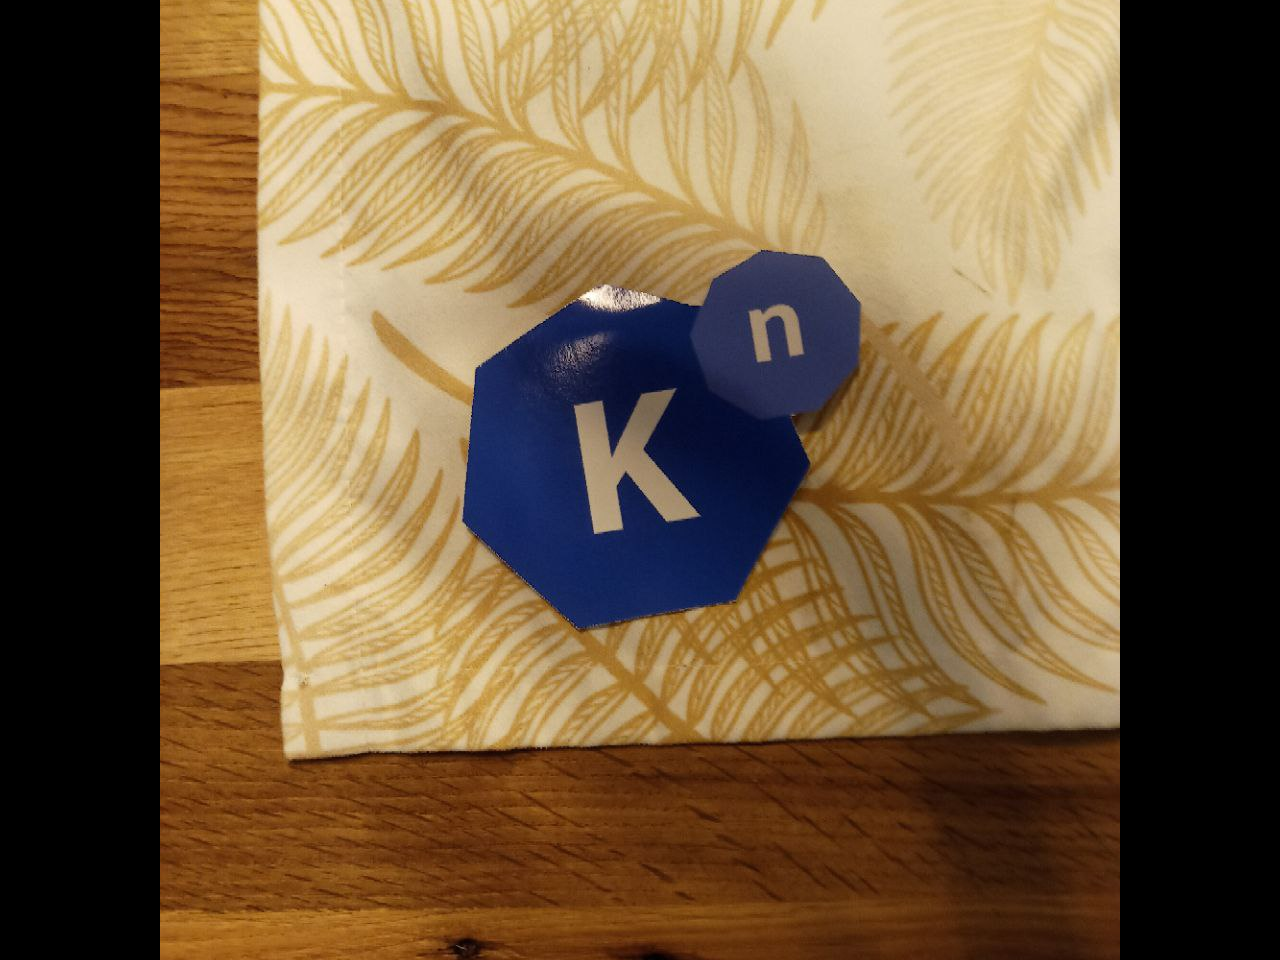knative: (460, 248, 862, 639)
